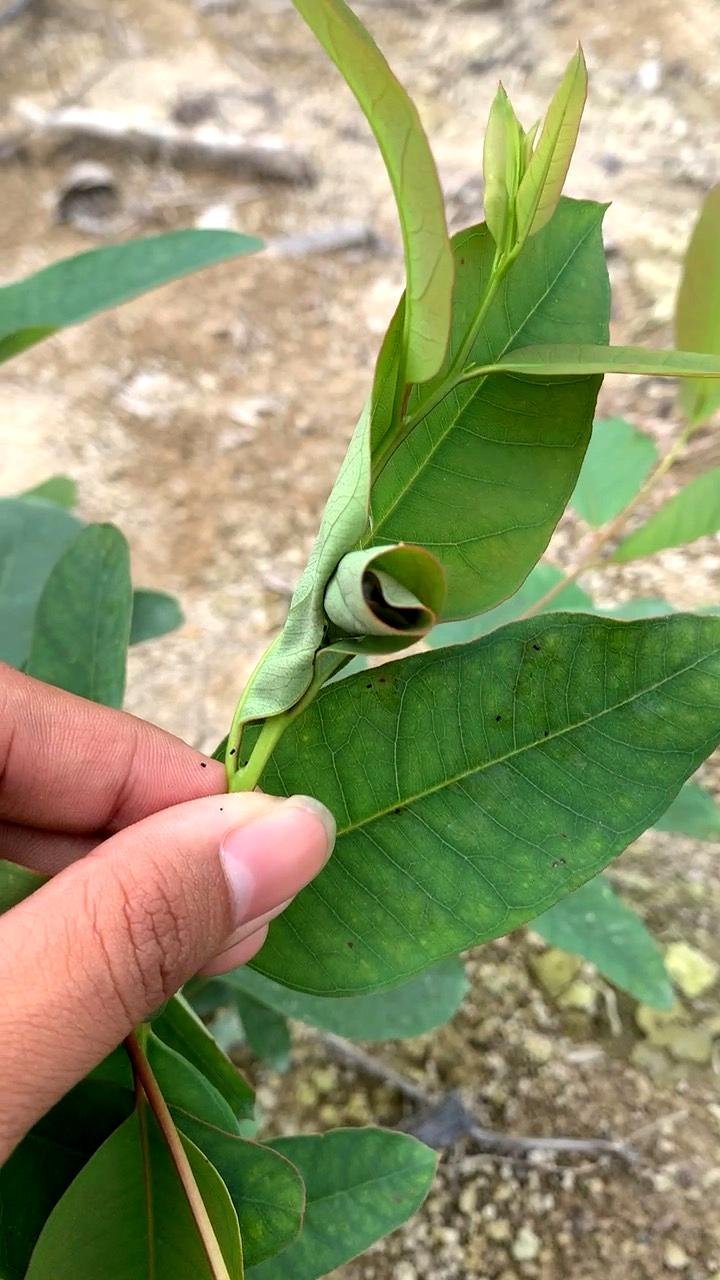Leaf Roller - Leaf: (268, 510, 535, 710)
